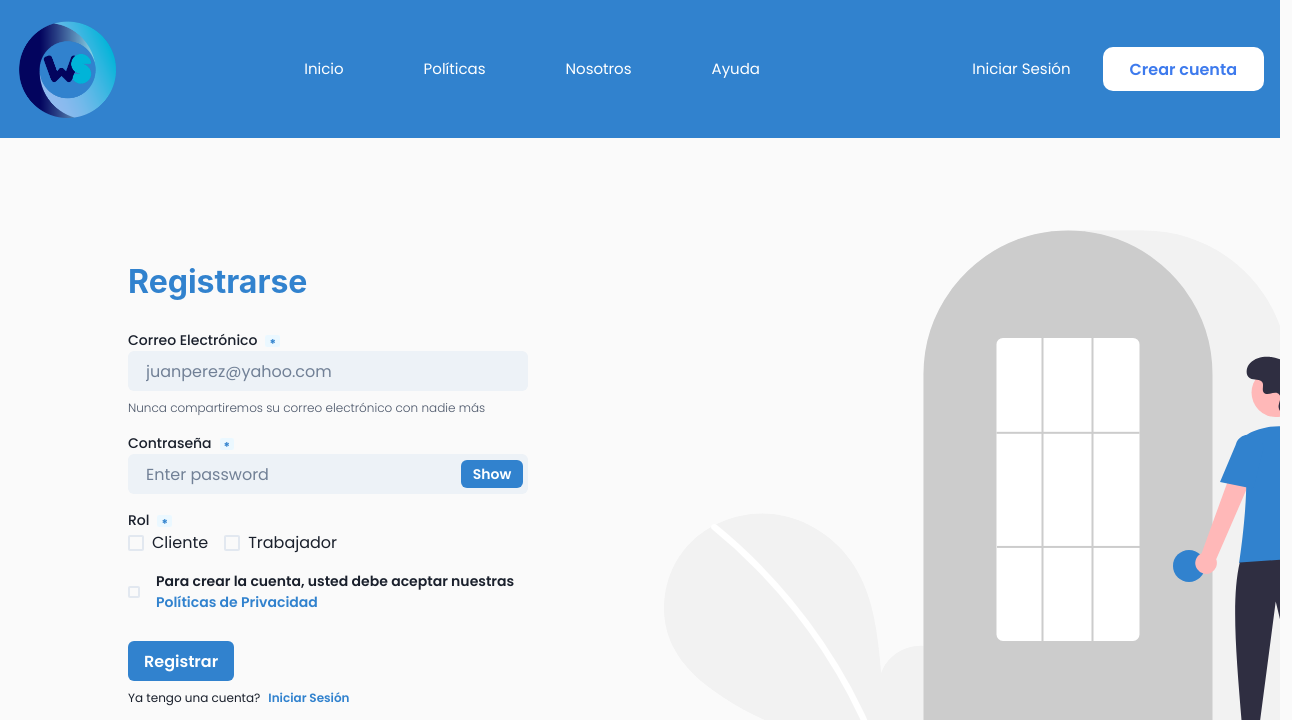
Pruebas Unitarias › Pruebas de registro › No selecciona roles
Step 1. Type "myemail@domain.com" into the field named "email" → (328, 371), box [128,351,528,391]
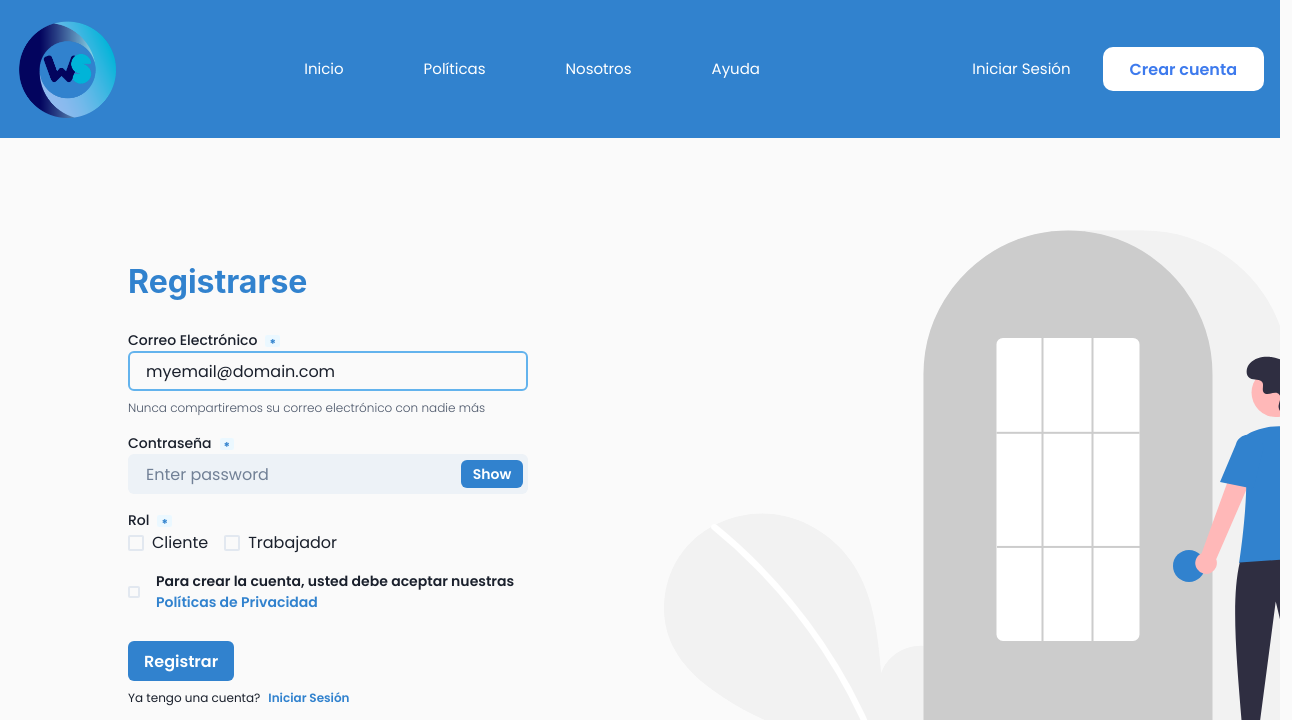
Step 2. Type "1234" into the password field named "password" → (328, 474), box [128,454,528,494]
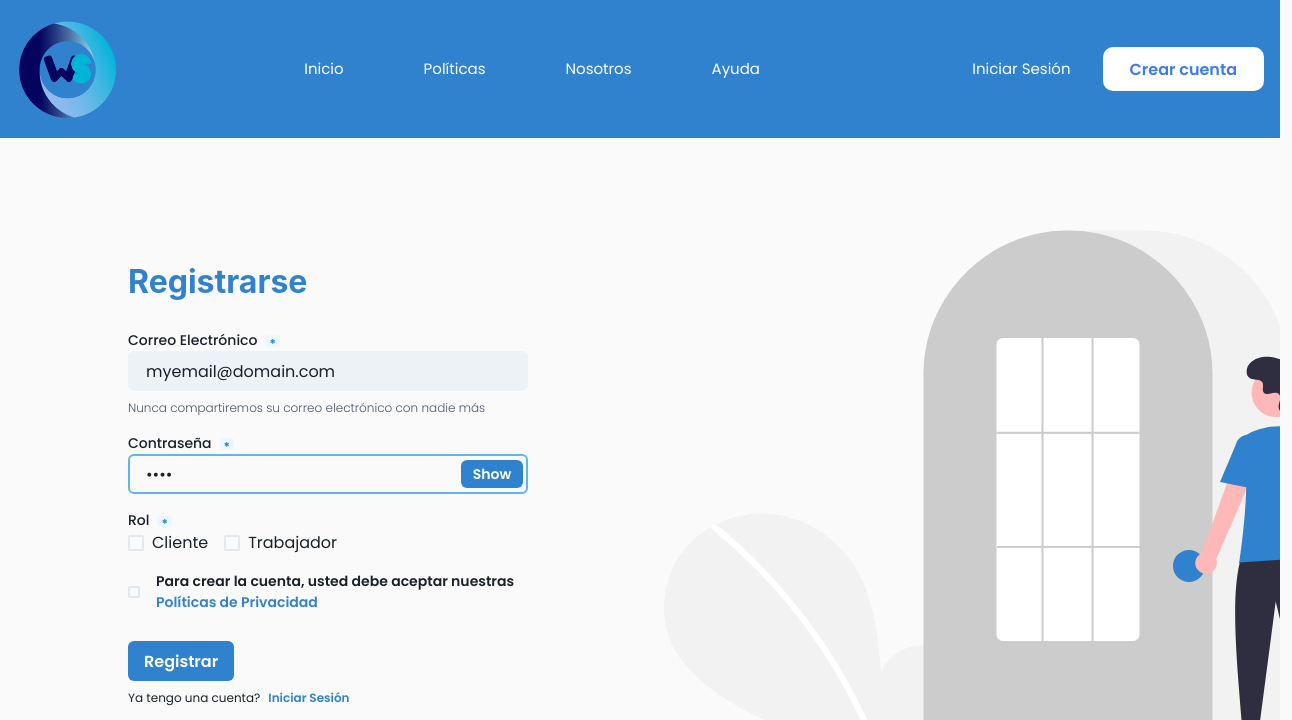
Step 3. Check the checkbox named "poli" → (328, 592), box [128,571,528,613]
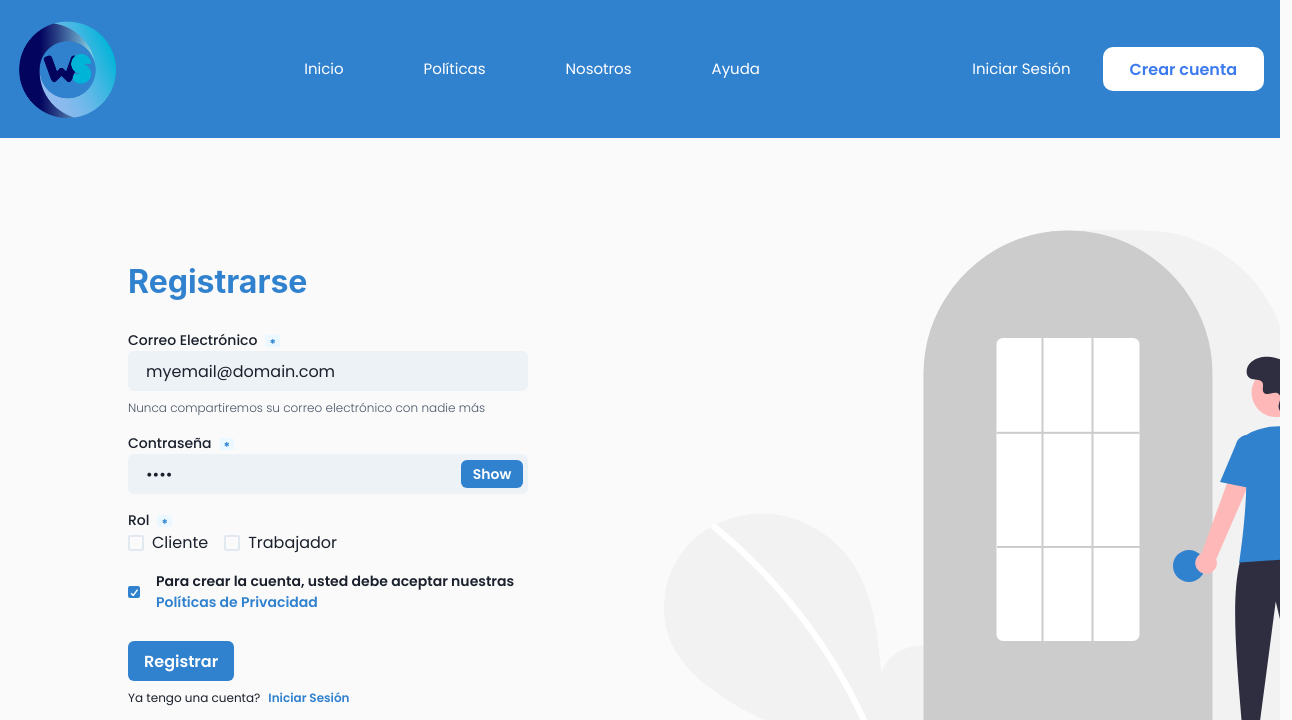
Step 4. Click the submit button → (181, 661), box [128,641,234,681]
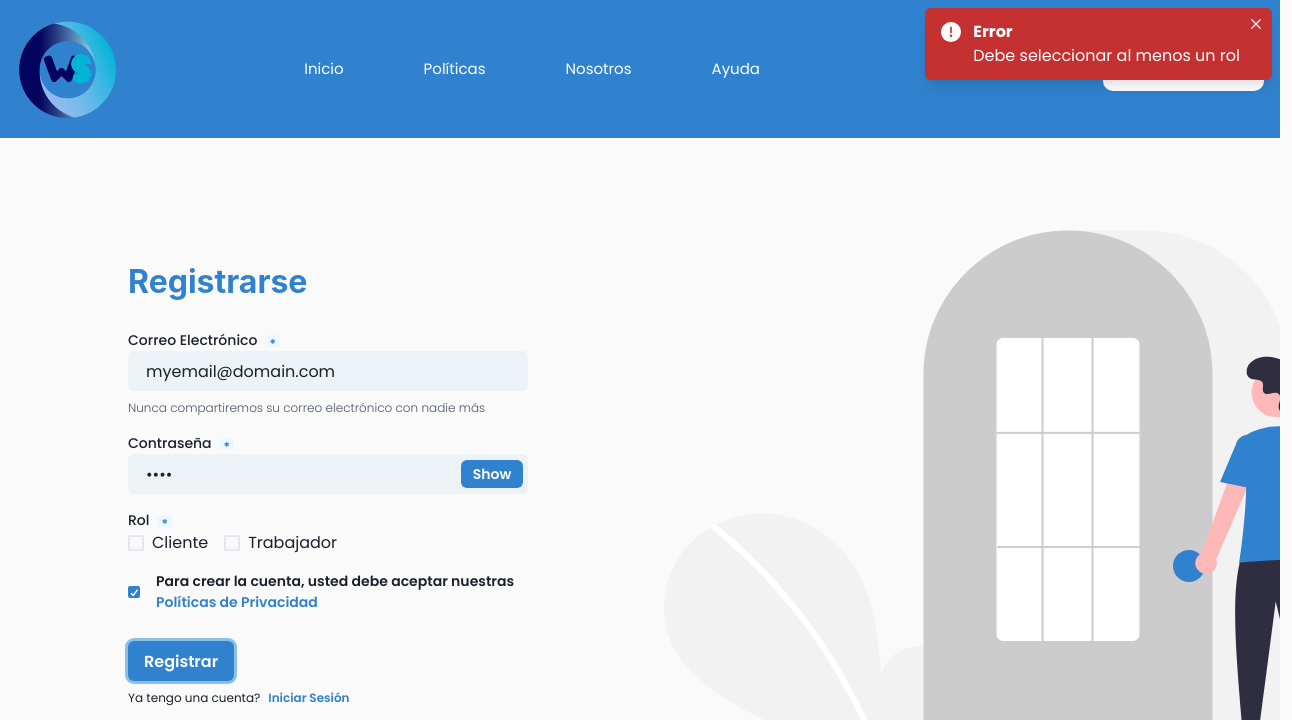
Expected: the text "Debe seleccionar al menos un rol" is shown, [973,44,1240,68]
